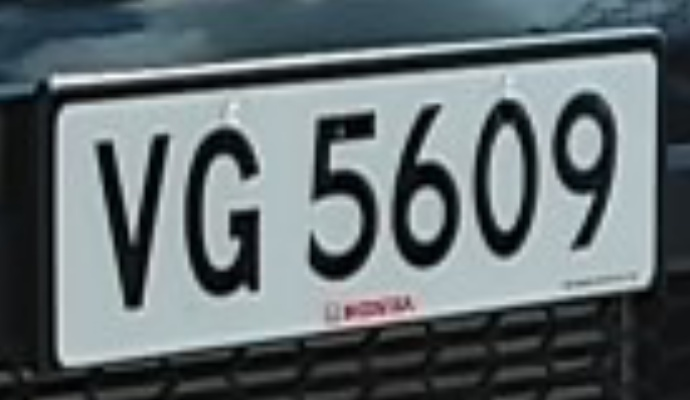0: (463, 84, 550, 262)
5: (299, 93, 391, 294)
6: (382, 90, 470, 277)
9: (539, 80, 629, 262)
G: (182, 110, 271, 312)
V: (80, 121, 179, 330)
